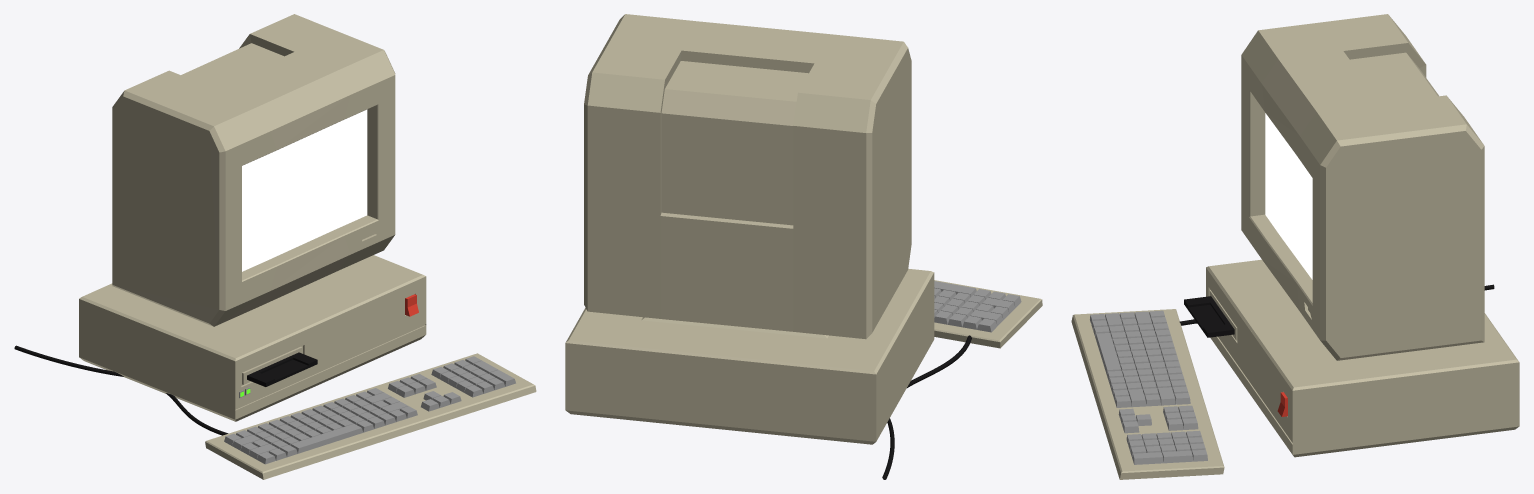
The model's file is computer3.glb.
3 views of the same model, side by side, from view 1: azimuth 30°, elevation 25°; view 2: azimuth 150°, elevation 25°; view 3: azimuth 270°, elevation 25° (orthographic). The views are drawn at different scales.
Visible parts, largest first — view 1: computer3; view 2: computer3; view 3: computer3.
Part boxes in pixels (box(x1,y1,x2,y2)): computer3: box(14, 14, 536, 479); computer3: box(565, 14, 1042, 479); computer3: box(1071, 14, 1519, 479).
Bounding box in the file's own units: 0.5899 × 0.4566 × 0.5924.
